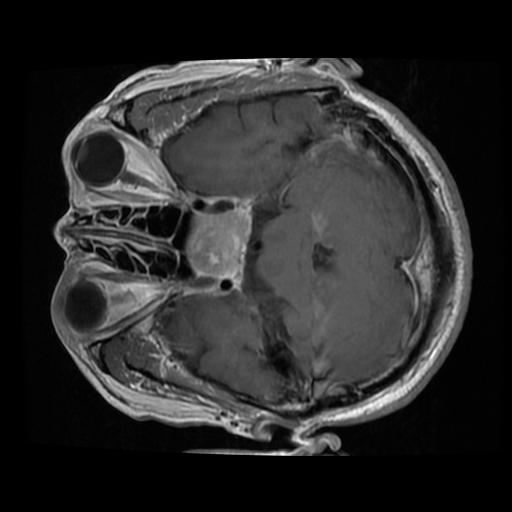pituitary tumour: (186, 201, 252, 279)
